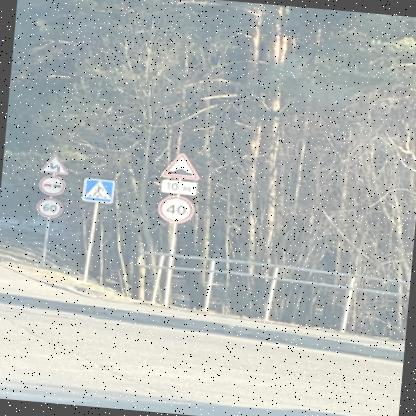crosswalk: (79, 176, 113, 202)
speedlimit: (154, 195, 192, 223), (34, 195, 61, 217)
